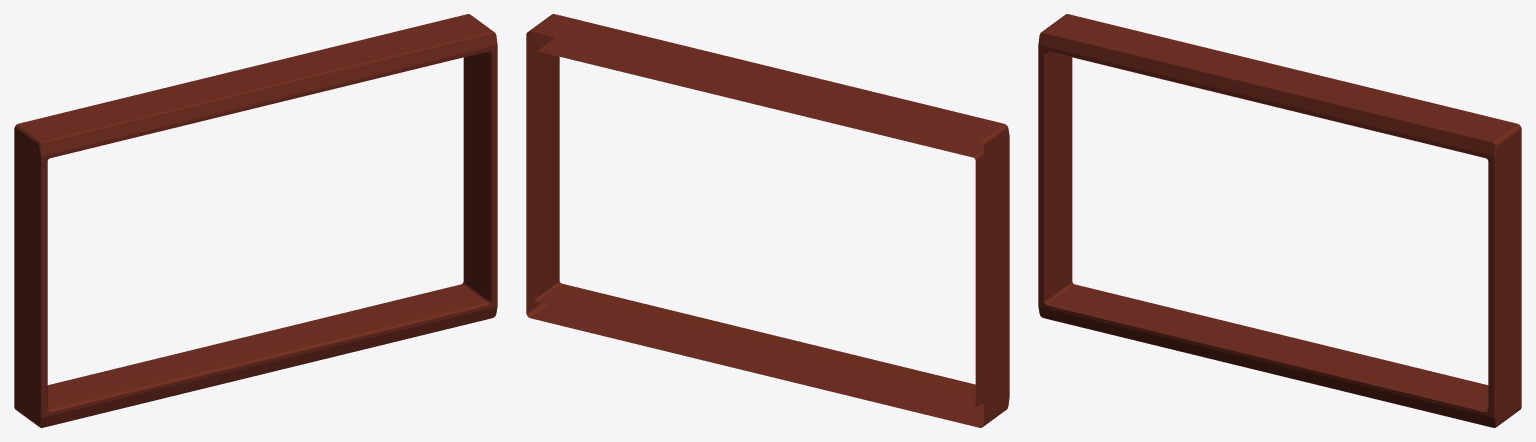
Rendered from SM_Shell.fbx.
3 views of the same model, side by side, from view 1: azimuth 30°, elevation 25°; view 2: azimuth 150°, elevation 25°; view 3: azimuth 330°, elevation 25° (orthographic).
Parts seen in each view (by area): view 1: SM_Shell; view 2: SM_Shell; view 3: SM_Shell.
Part boxes in pixels (x1,y1,x2,y2): SM_Shell: [14, 14, 497, 427]; SM_Shell: [526, 14, 1009, 427]; SM_Shell: [1038, 14, 1521, 427].
Size of the model in its own units: 27.87 by 16.69 by 2.79.
